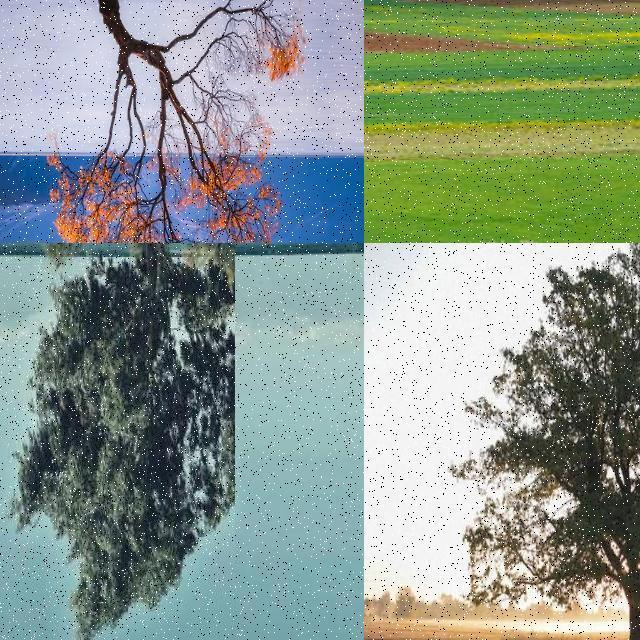tree: (0, 243, 235, 640), (450, 243, 640, 639), (44, 0, 308, 244), (364, 38, 404, 102)
